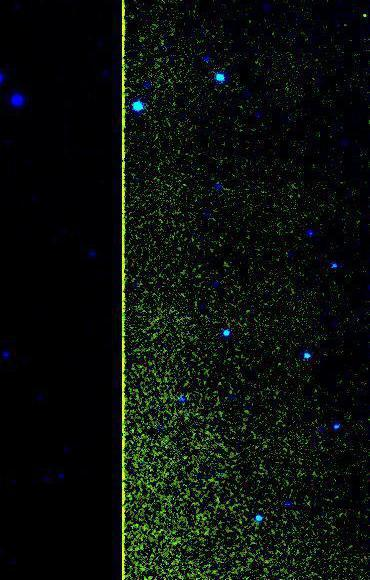star: (349, 1, 370, 31)
